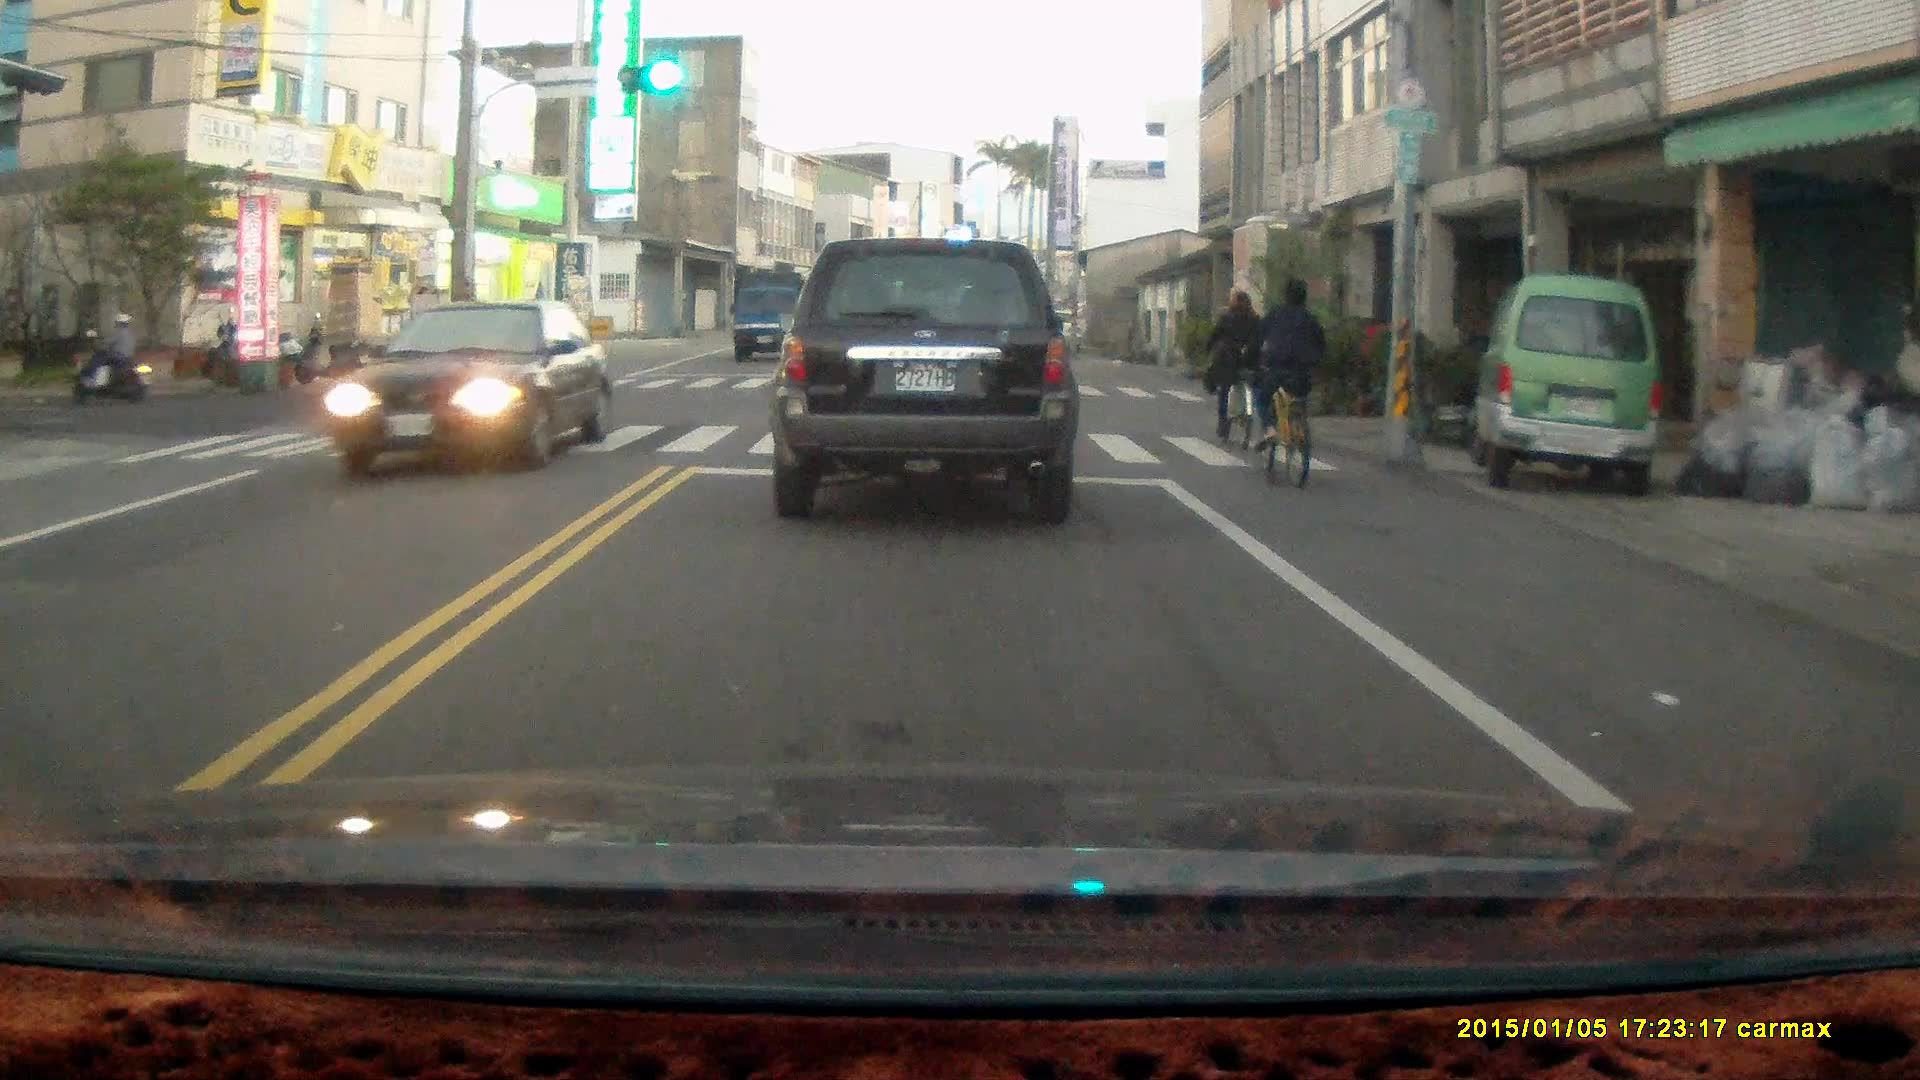rider: (1243, 274, 1327, 485), (1202, 283, 1260, 458), (66, 305, 152, 402)
vehicle: (767, 235, 1081, 522), (325, 295, 614, 476), (1471, 273, 1668, 497), (730, 275, 822, 362)
